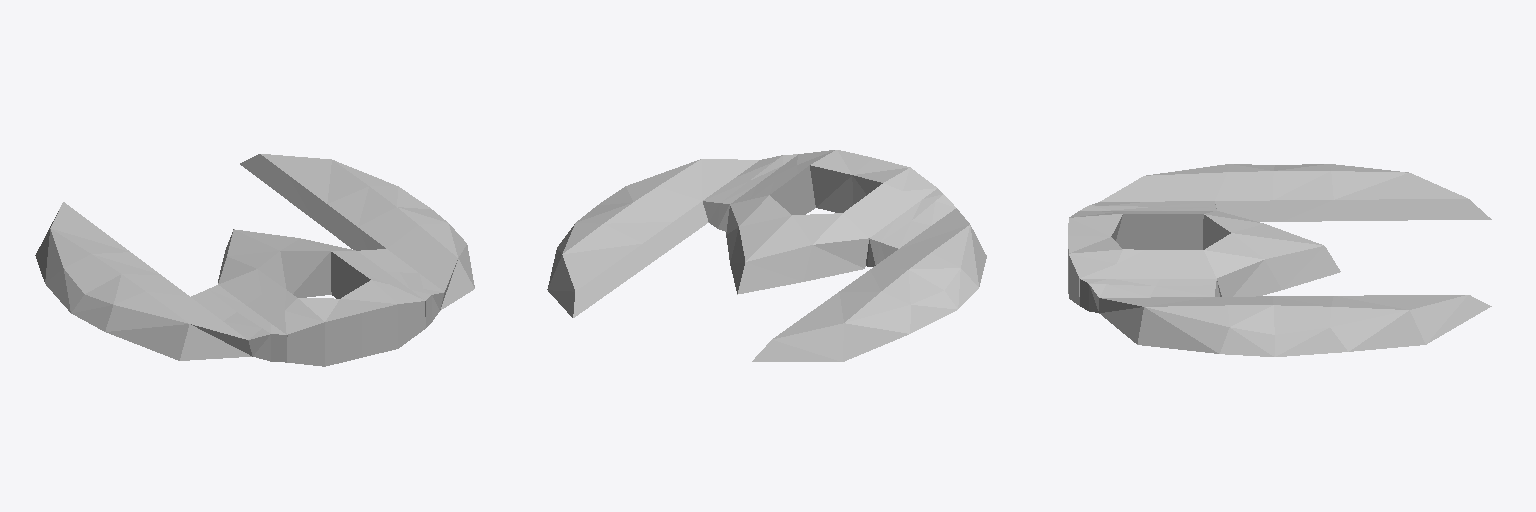
File: EnemyShipParts.obj
The picture shows the model from 3 angles: view 1: azimuth 30°, elevation 25°; view 2: azimuth 150°, elevation 25°; view 3: azimuth 270°, elevation 25°; orthographic projection.
Visible parts, largest first — view 1: polySurface48 polySurface55, polySurface48 polySurface56, polySurface48 polySurface50, polySurface48 polySurface51, polySurface48 polySurface57, polySurface49 polySurface48, polySurface48 polySurface52, polySurface48 polySurface54, polySurface48 polySurface53, polySurface48 polySurface58; view 2: polySurface48 polySurface55, polySurface48 polySurface54, polySurface48 polySurface58, polySurface48 polySurface50, polySurface49 polySurface48, polySurface48 polySurface56, polySurface48 polySurface51, polySurface48 polySurface52, polySurface48 polySurface53, polySurface48 polySurface57; view 3: polySurface48 polySurface50, polySurface48 polySurface55, polySurface48 polySurface51, polySurface49 polySurface48, polySurface48 polySurface54, polySurface48 polySurface53, polySurface48 polySurface56, polySurface48 polySurface52, polySurface48 polySurface57, polySurface48 polySurface58.
Boxes of the visible parts, <box> form: polySurface48 polySurface55: <box>45,252,189,360</box>; polySurface48 polySurface56: <box>180,269,287,362</box>; polySurface48 polySurface50: <box>314,186,474,287</box>; polySurface48 polySurface51: <box>331,249,474,327</box>; polySurface48 polySurface57: <box>285,291,361,366</box>; polySurface49 polySurface48: <box>240,154,395,219</box>; polySurface48 polySurface52: <box>341,272,425,357</box>; polySurface48 polySurface54: <box>35,202,129,282</box>; polySurface48 polySurface53: <box>234,229,355,297</box>; polySurface48 polySurface58: <box>218,229,286,289</box>; polySurface48 polySurface55: <box>839,225,986,333</box>; polySurface48 polySurface54: <box>752,292,910,361</box>; polySurface48 polySurface58: <box>737,213,868,294</box>; polySurface48 polySurface50: <box>576,159,708,265</box>; polySurface49 polySurface48: <box>547,223,646,317</box>; polySurface48 polySurface56: <box>843,187,969,266</box>; polySurface48 polySurface51: <box>702,154,799,231</box>; polySurface48 polySurface52: <box>797,150,872,214</box>; polySurface48 polySurface53: <box>726,195,791,293</box>; polySurface48 polySurface57: <box>852,158,935,204</box>; polySurface48 polySurface50: <box>1137,296,1347,356</box>; polySurface48 polySurface55: <box>1146,164,1342,221</box>; polySurface48 polySurface51: <box>1079,250,1219,343</box>; polySurface49 polySurface48: <box>1330,295,1491,351</box>; polySurface48 polySurface54: <box>1330,164,1491,220</box>; polySurface48 polySurface53: <box>1204,233,1340,296</box>; polySurface48 polySurface56: <box>1080,176,1216,249</box>; polySurface48 polySurface52: <box>1068,235,1143,305</box>; polySurface48 polySurface57: <box>1068,211,1144,249</box>; polySurface48 polySurface58: <box>1203,211,1323,249</box>.
Bounding box in the file's own units: 146 × 18.17 × 142.